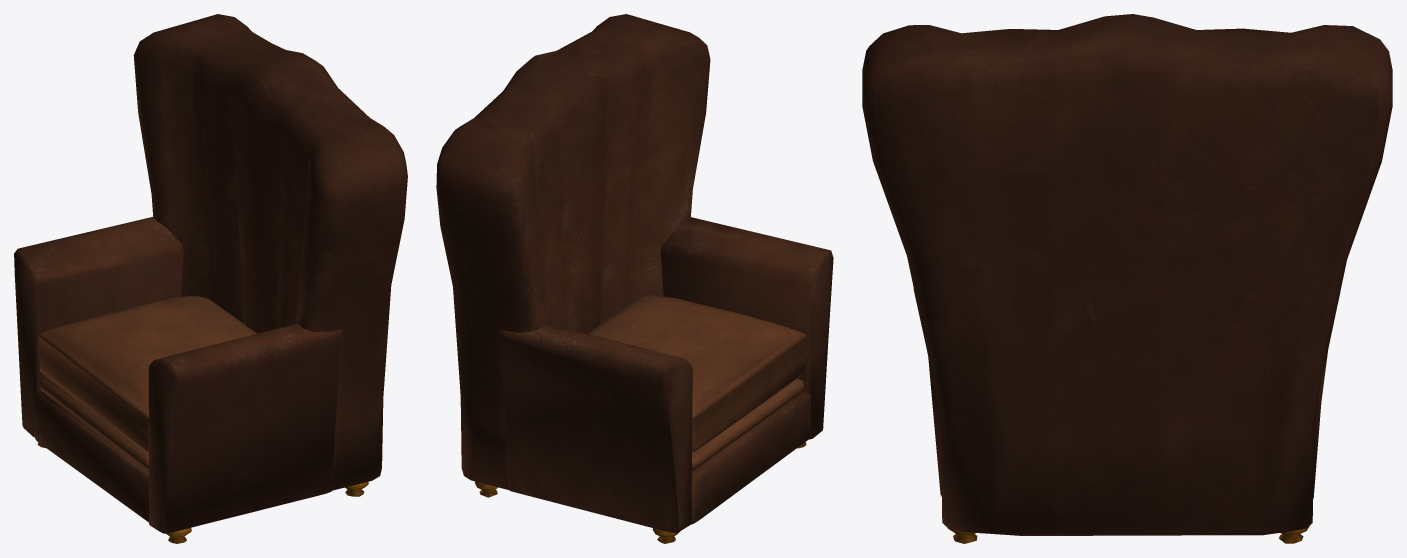
The model's file is Couch.fbx.
3 views of the same model, side by side, from view 1: azimuth 30°, elevation 25°; view 2: azimuth 150°, elevation 25°; view 3: azimuth 270°, elevation 25° (orthographic). The views are drawn at different scales.
Parts seen in each view (by area): view 1: Leather Couch; view 2: Leather Couch; view 3: Leather Couch.
Part boxes in pixels (box(x1,y1,x2,y2)): Leather Couch: box(14, 14, 407, 543); Leather Couch: box(436, 14, 833, 543); Leather Couch: box(862, 14, 1392, 543).
Size of the model in its own units: 295 by 436 by 465.
Materials: 1 (1 with a texture image).
